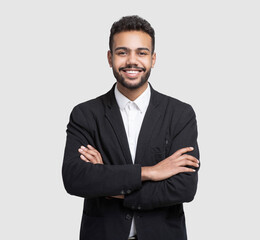young: (103, 10, 163, 98)
